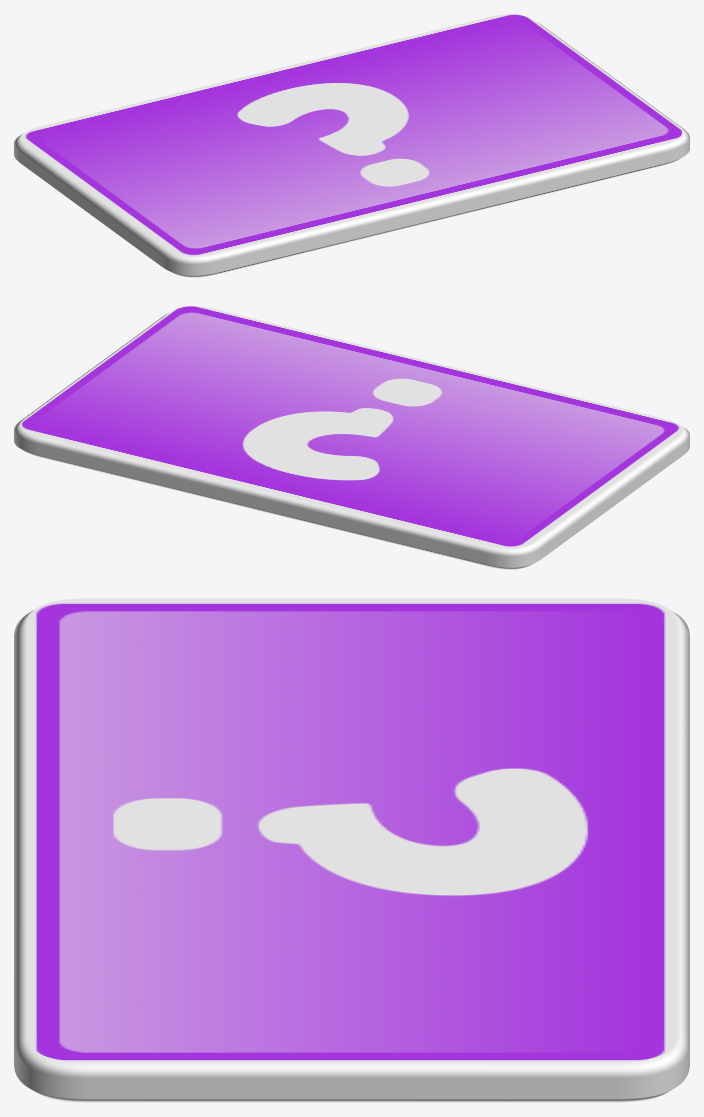
Rendered from ChanceCard.fbx.
3 views of the same model, one above another, from view 1: azimuth 30°, elevation 25°; view 2: azimuth 150°, elevation 25°; view 3: azimuth 270°, elevation 25° (orthographic). The views are drawn at different scales.
Visible parts, largest first — view 1: ChanceCard; view 2: ChanceCard; view 3: ChanceCard.
Part boxes in pixels (x1=…): ChanceCard: x1=14, y1=14, x2=689, y2=277; ChanceCard: x1=14, y1=306, x2=689, y2=569; ChanceCard: x1=14, y1=598, x2=689, y2=1102.
Bounding box in the file's own units: 5 × 0.2 × 3.
1 material, 1 textured.
